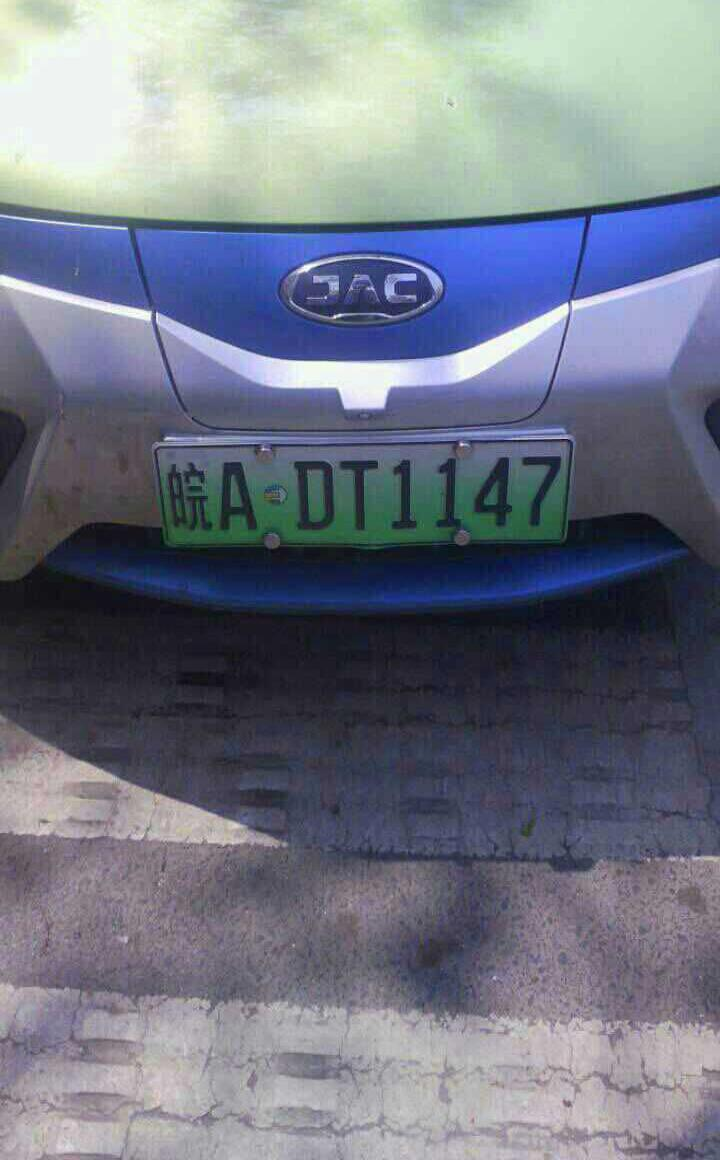car: (152, 437, 584, 556)
